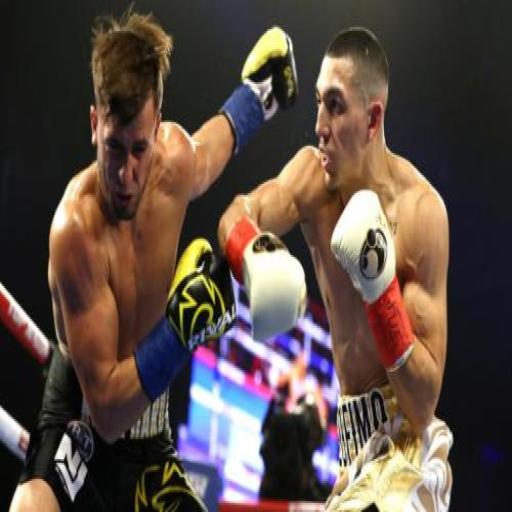boxing: (6, 9, 299, 510), (216, 24, 454, 508)
